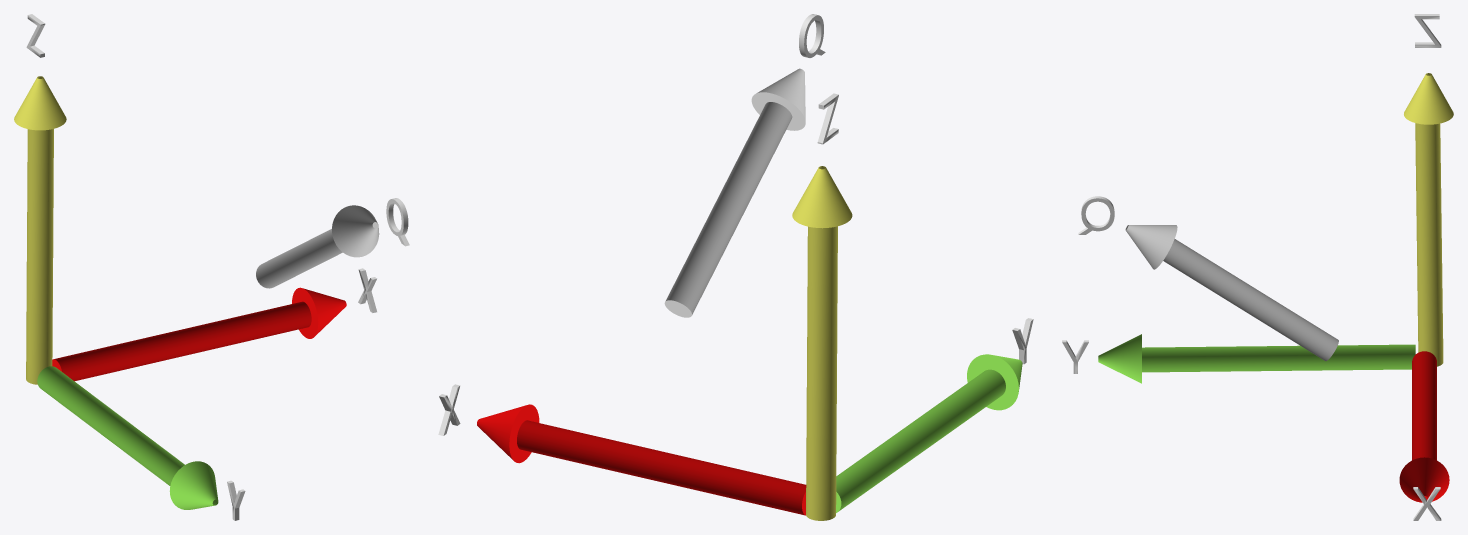
3 views of the same model, side by side, from view 1: azimuth 30°, elevation 25°; view 2: azimuth 150°, elevation 25°; view 3: azimuth 270°, elevation 25° (orthographic). The views are drawn at different scales.
Visible parts, largest first — view 1: Cylinder, Cylinder.2, Cylinder.1, Cylinder.3, Cone.3, Cone.1, Cone.2, Cone; view 2: Cylinder, Cylinder.2, Cylinder.3, Cylinder.1, Cone.2, Cone, Cone.3, Cone.1; view 3: Cylinder.1, Cylinder.2, Cylinder.3, Cylinder, Cone, Cone.2, Cone.3, Cone.1, Cap:1.
Boxes of the visible parts, x1,y1,x2,y2 form: Cylinder: (52, 301, 311, 381); Cylinder.2: (26, 129, 53, 384); Cylinder.1: (37, 366, 184, 485); Cylinder.3: (256, 229, 342, 288); Cone.3: (332, 205, 379, 257); Cone.1: (169, 461, 218, 509); Cone.2: (14, 76, 66, 130); Cone: (292, 287, 346, 338); Cylinder: (517, 420, 806, 515); Cylinder.2: (806, 226, 837, 520); Cylinder.3: (664, 102, 792, 317); Cylinder.1: (836, 369, 1005, 512); Cone.2: (792, 166, 852, 228); Cone: (477, 404, 539, 463); Cone.3: (751, 68, 805, 130); Cone.1: (967, 354, 1022, 410); Cylinder.1: (1142, 344, 1415, 372); Cylinder.2: (1415, 123, 1443, 366); Cylinder.3: (1163, 239, 1338, 361); Cylinder: (1412, 351, 1436, 460); Cone: (1399, 457, 1449, 502); Cone.2: (1404, 73, 1453, 124); Cone.3: (1125, 225, 1177, 269); Cone.1: (1098, 334, 1141, 383); Cap:1: (1079, 198, 1114, 234).
Size of the model in its own units: 0.1543 by 0.1603 by 0.1565.
